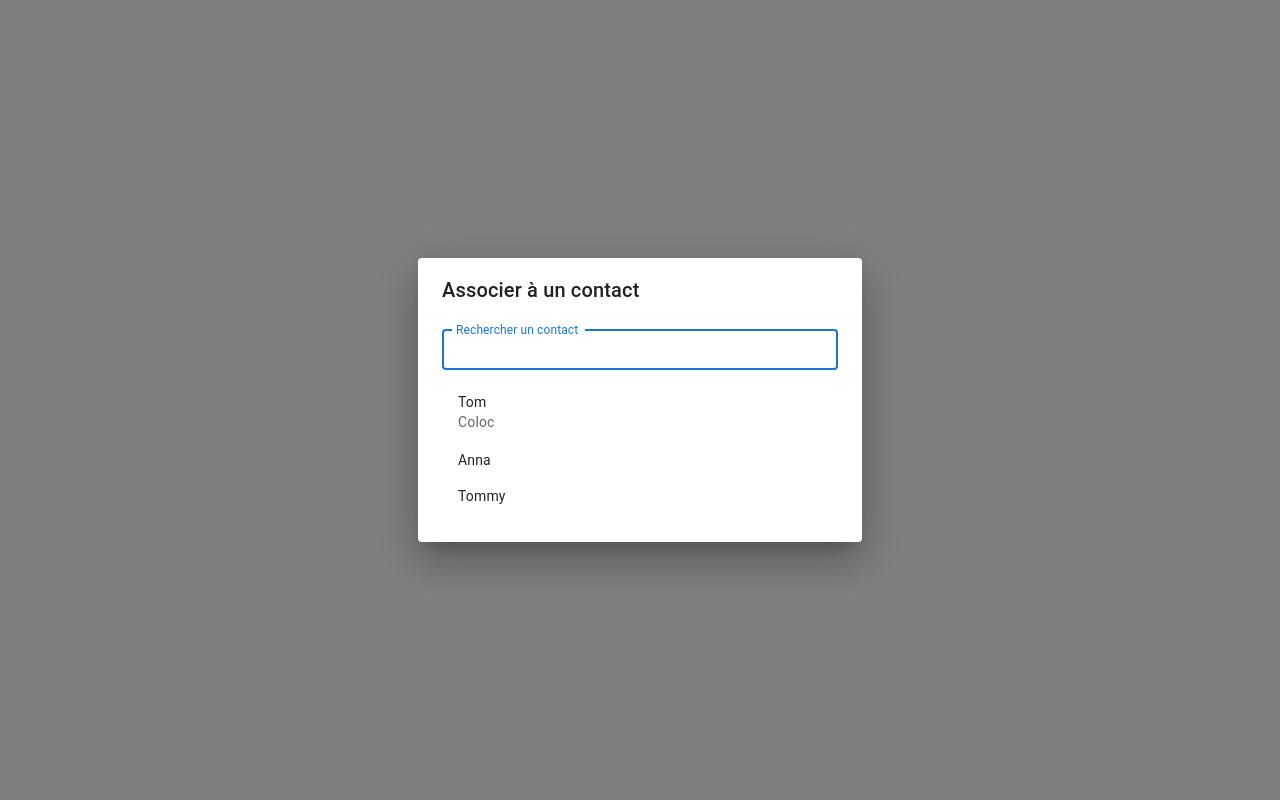
ContactPicker › lists the contacts and narrows them as one types, case and accents aside
Expected: the button "Anna" is shown, [458,452,491,468]
Expected: the number of buttons is 3, [458,394,495,430]; [458,452,491,468]; [458,488,506,504]
Type "tóm" into the field labelled "Rechercher un contact" at [640, 350], box [442,330,838,370]
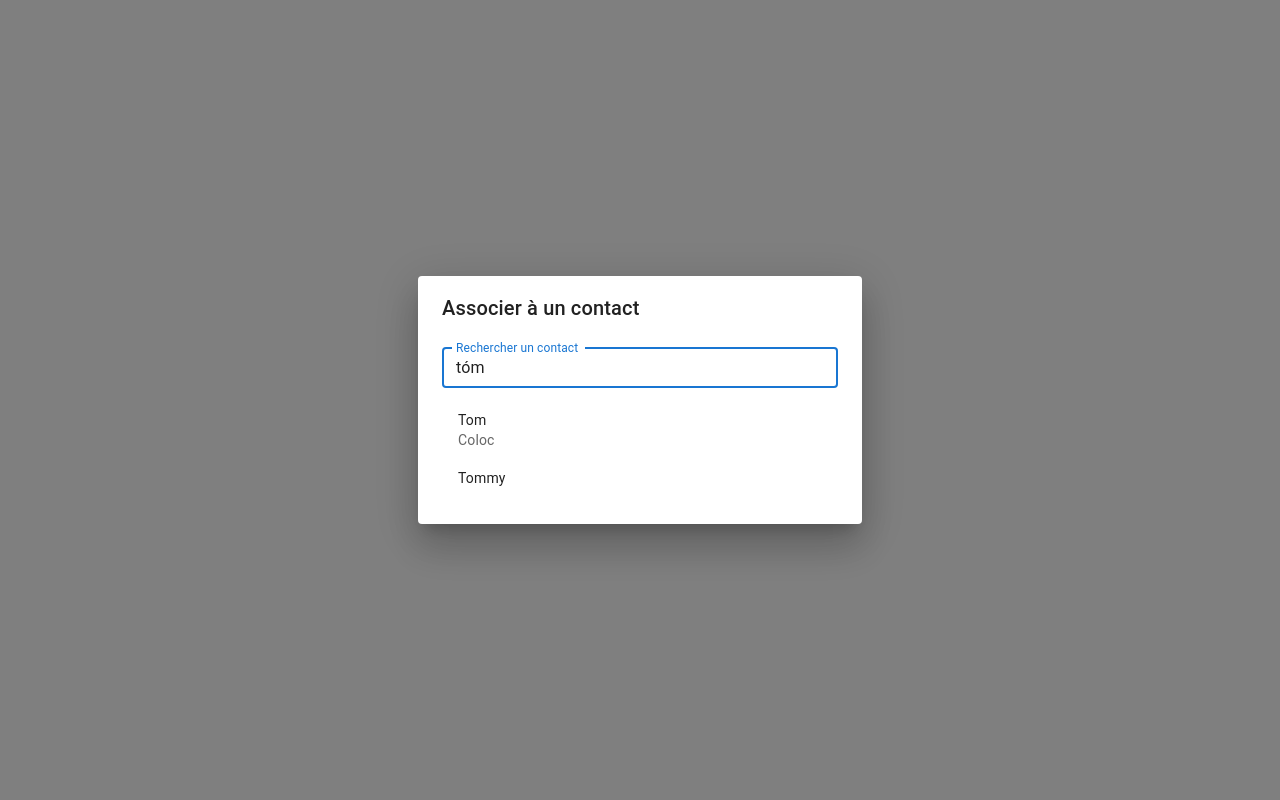
Now the buttons read "TomColoc", "Tommy", in this order, box [458,412,495,448]; [458,470,506,486]
